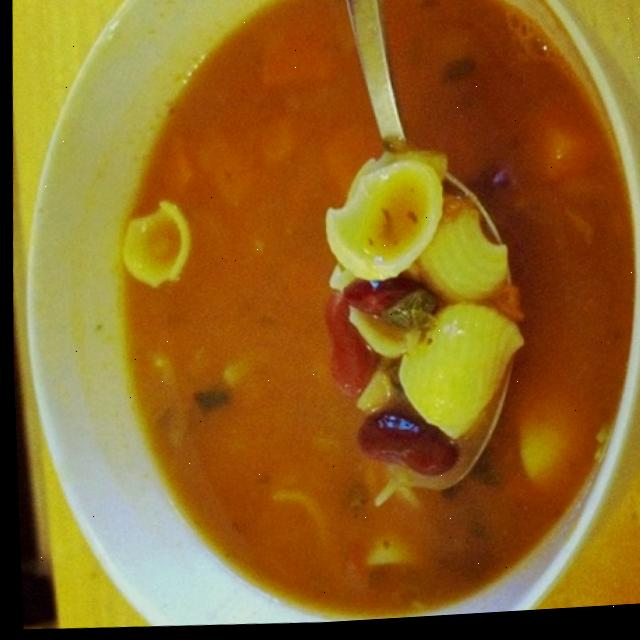汤锅炖物: (10, 0, 640, 640)
